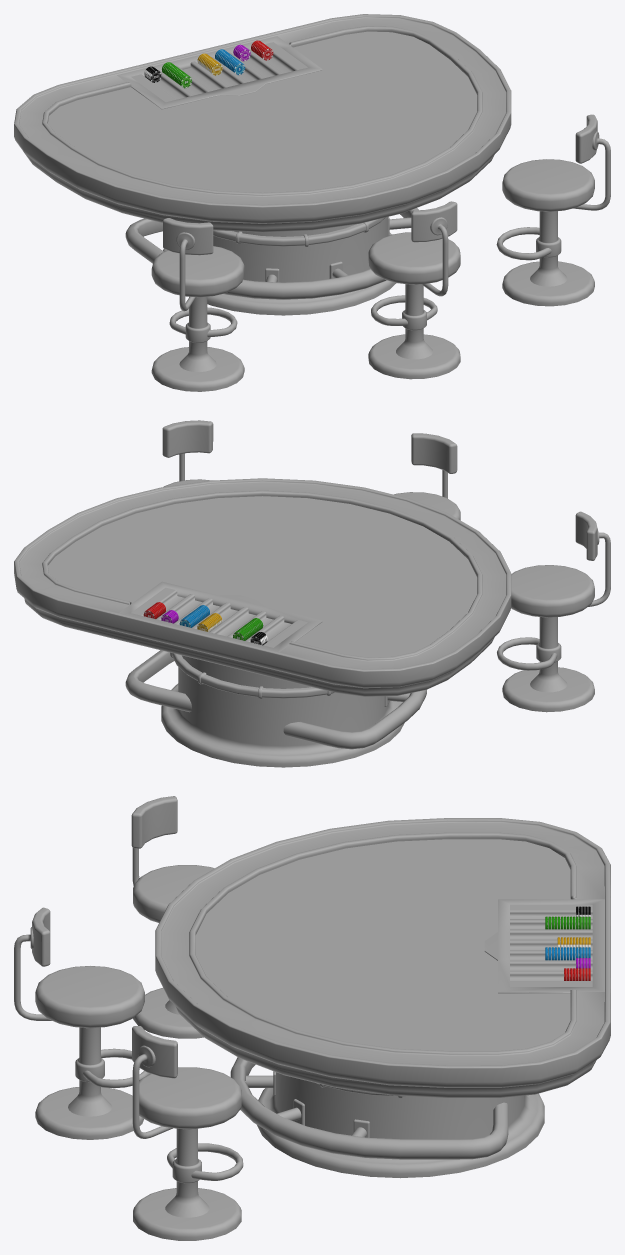
The model's file is blackjack-table.fbx.
The picture shows the model from 3 angles, top to bottom: view 1: azimuth 30°, elevation 25°; view 2: azimuth 150°, elevation 25°; view 3: azimuth 270°, elevation 25°; orthographic projection. The views are drawn at different scales.
Visible parts, largest first — view 1: Blackjack_Table_1, BT_Chair_1, BT_Chair_2, BT_Chair_3, CoinPack; view 2: Blackjack_Table_1, BT_Chair_3, BT_Chair_1, BT_Chair_2, CoinPack; view 3: Blackjack_Table_1, BT_Chair_2, BT_Chair_1, BT_Chair_3, CoinPack.
Part boxes in pixels (x1,y1,x2,y2): Blackjack_Table_1: [14, 14, 511, 315]; BT_Chair_1: [368, 201, 460, 379]; BT_Chair_2: [496, 114, 610, 306]; BT_Chair_3: [151, 218, 244, 391]; CoinPack: [144, 40, 273, 88]; Blackjack_Table_1: [14, 478, 511, 767]; BT_Chair_3: [497, 511, 610, 712]; BT_Chair_1: [394, 433, 460, 520]; BT_Chair_2: [162, 420, 213, 486]; CoinPack: [143, 602, 267, 645]; Blackjack_Table_1: [155, 818, 610, 1178]; BT_Chair_2: [132, 1026, 243, 1240]; BT_Chair_1: [14, 907, 149, 1139]; BT_Chair_3: [131, 796, 214, 1038]; CoinPack: [545, 906, 590, 980].
Size of the model in its own units: 291 by 107 by 293.
4 materials, 1 textured.
